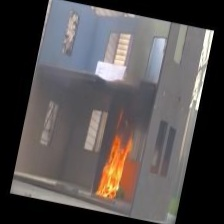fire: (93, 121, 137, 203)
